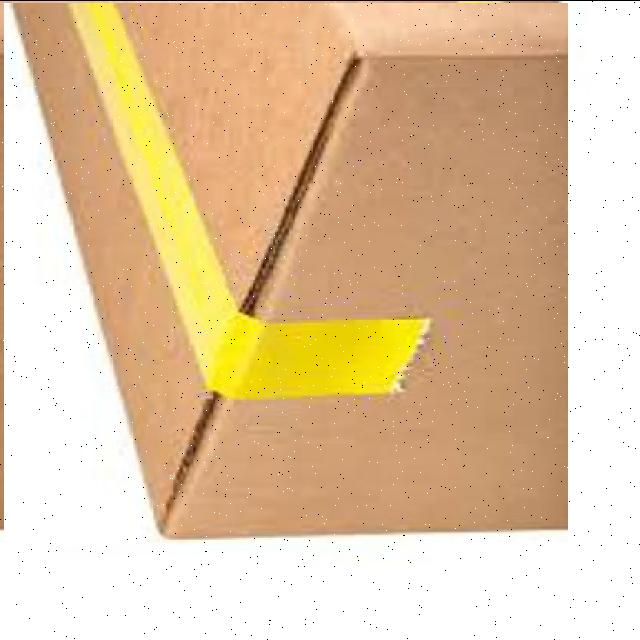normal: (4, 2, 568, 544)
